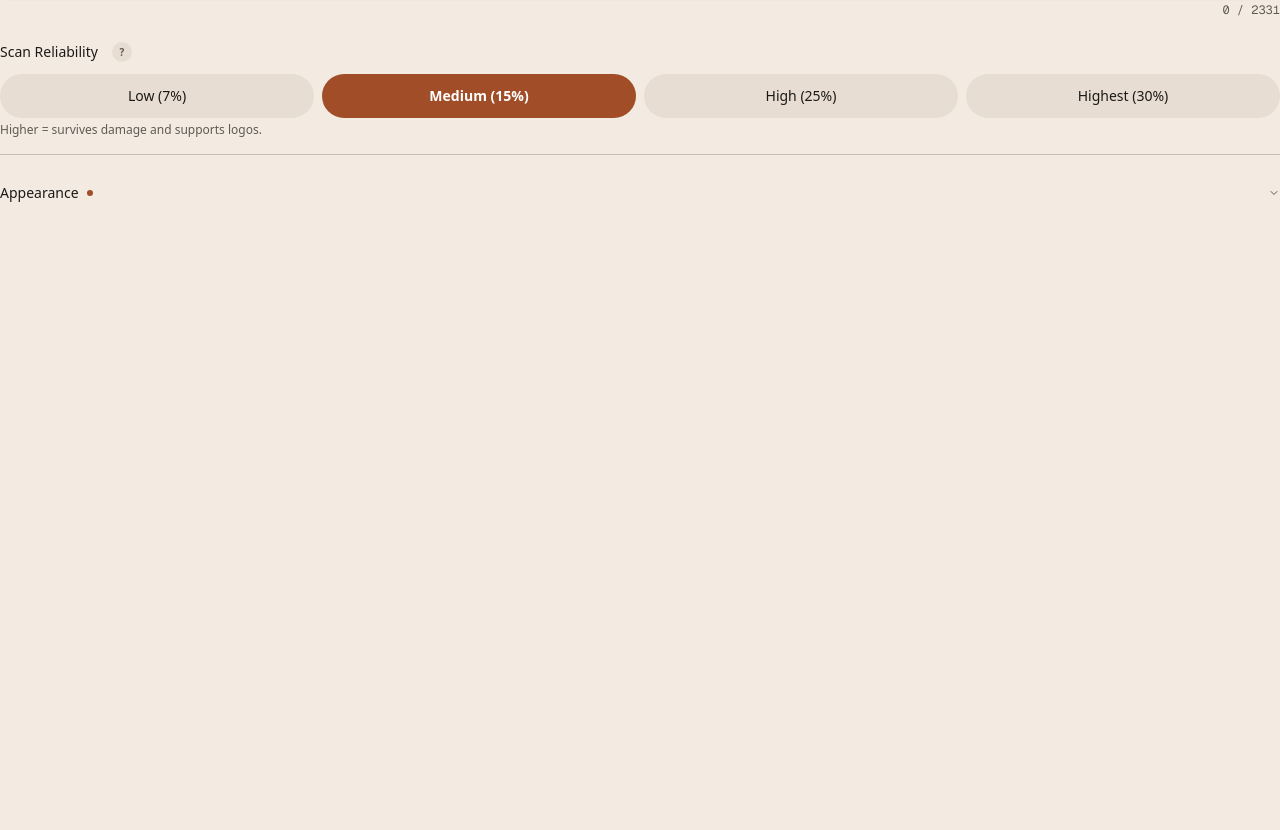
Scenario: color contrast warning › foreground gradient › shows Start and End color fields when a gradient is active
Click the button "Appearance" at {"x": 39, "y": 192}, box [0, 171, 1279, 215]
(page scrolled)
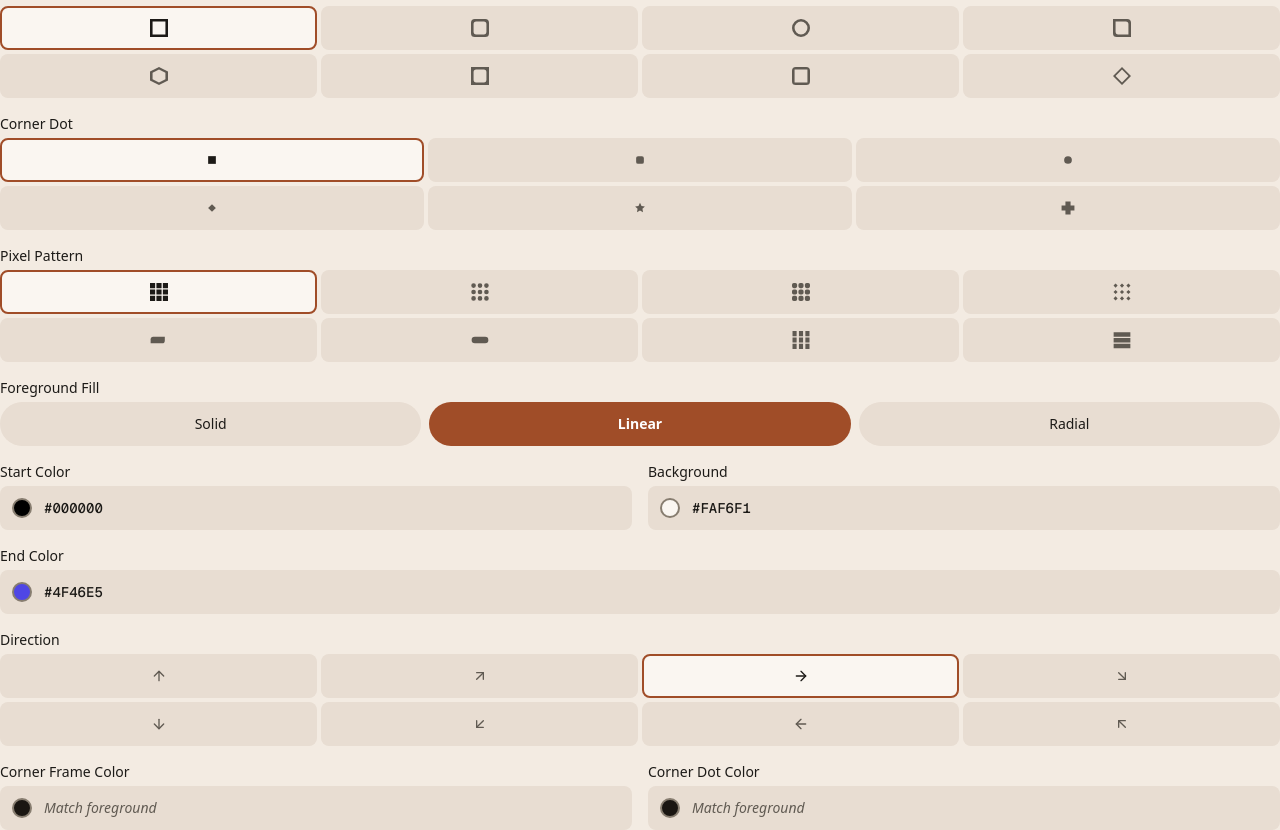
Now the colour field labelled "Start Color" is shown, box [0, 462, 70, 481]
Now the colour field labelled "End Color" is shown, box [0, 546, 64, 565]
